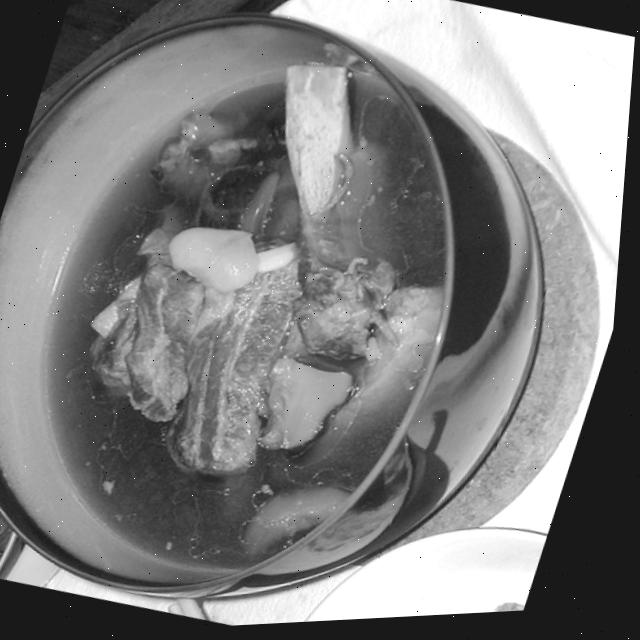汤锅炖物: (0, 6, 617, 640)
